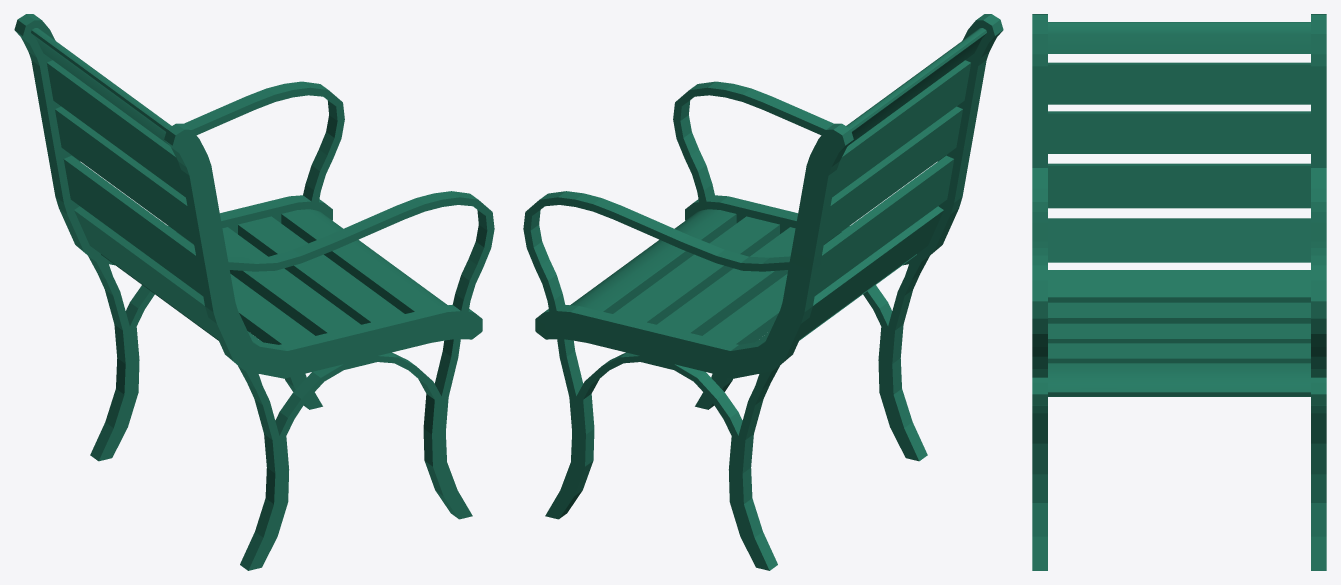
Rendered from chair.FBX.
The picture shows the model from 3 angles, left to right: view 1: azimuth 30°, elevation 25°; view 2: azimuth 150°, elevation 25°; view 3: azimuth 270°, elevation 25°; orthographic projection. The views are drawn at different scales.
Visible parts, largest first — view 1: Box029; view 2: Box029; view 3: Box029.
Part boxes in pixels (x1,y1,x2,y2): Box029: (14, 14, 494, 570); Box029: (523, 14, 1003, 570); Box029: (1032, 14, 1326, 570).
Size of the model in its own units: 6.85 by 9.29 by 5.83.
